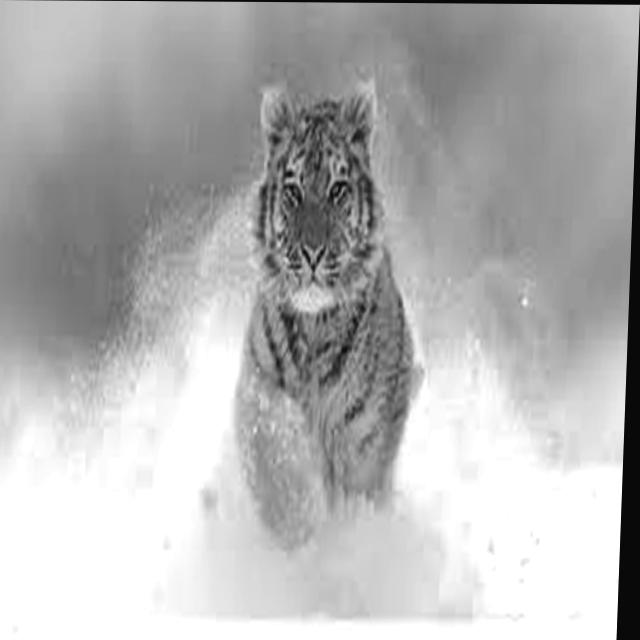Tiger: (225, 73, 436, 553)
